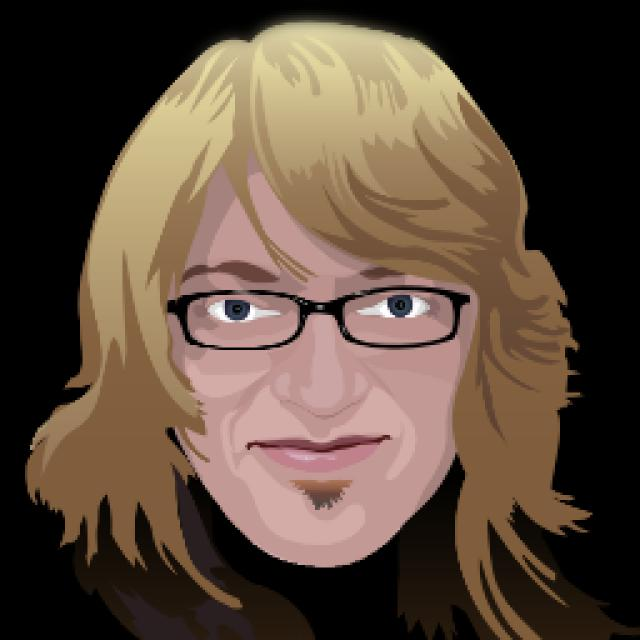glasses: (155, 278, 484, 360)
